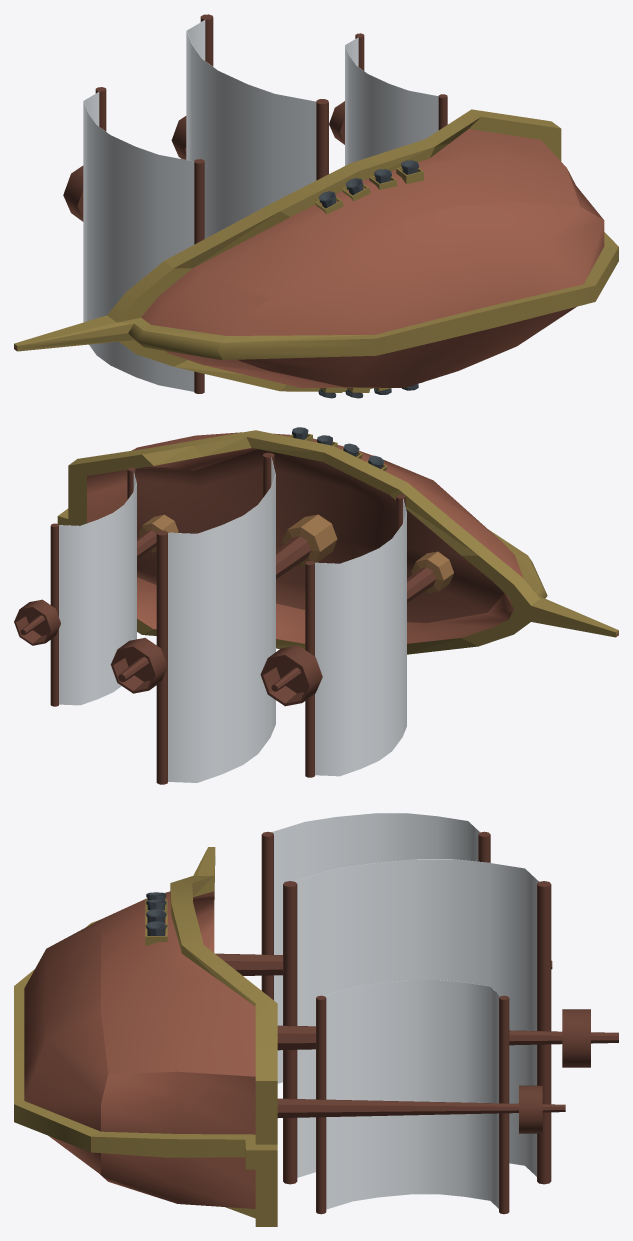
File: Galeon001.FBX
3 views of the same model, one above another, from view 1: azimuth 30°, elevation 25°; view 2: azimuth 150°, elevation 25°; view 3: azimuth 270°, elevation 25° (orthographic). The views are drawn at different scales.
Visible parts, largest first — view 1: Galeon001; view 2: Galeon001; view 3: Galeon001.
Boxes of the visible parts, box(x1,y1,x2,y2) form: Galeon001: box(14, 14, 618, 398); Galeon001: box(14, 427, 618, 784); Galeon001: box(14, 813, 618, 1226).
Bounding box in the file's own units: 492 × 220 × 406.
Materials: 1 (1 with a texture image).
